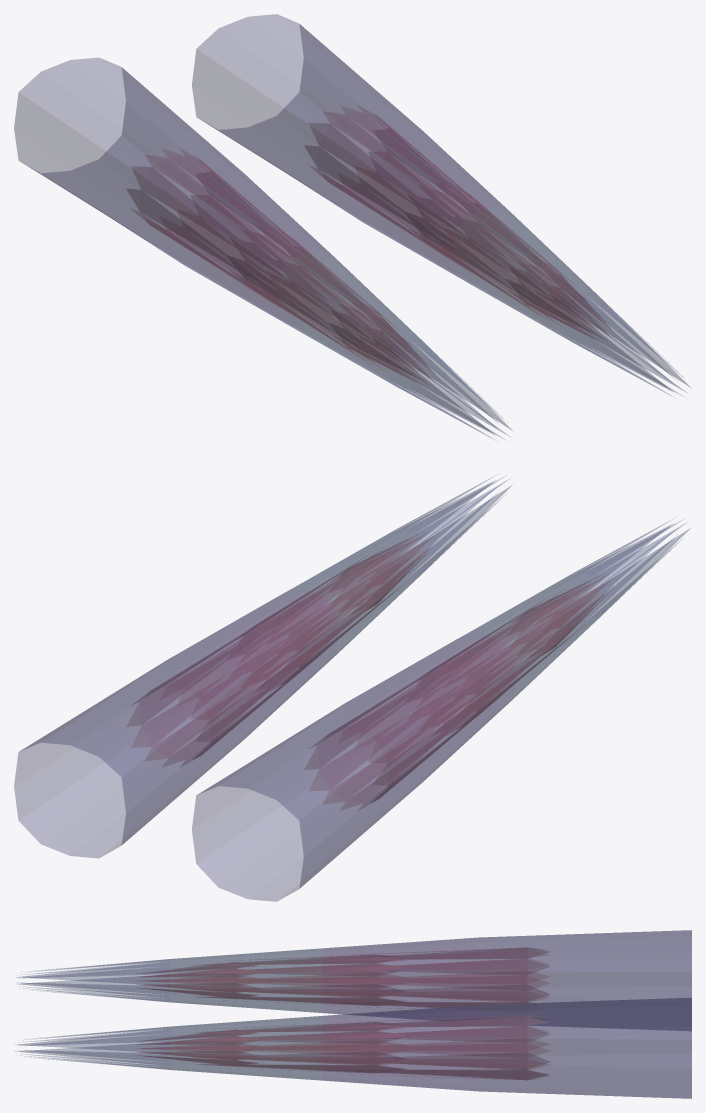
The model's file is Bunner_F3X2NG.obj.
3 views of the same model, one above another, from view 1: azimuth 30°, elevation 25°; view 2: azimuth 150°, elevation 25°; view 3: azimuth 270°, elevation 25° (orthographic). The views are drawn at different scales.
Visible parts, largest first — view 1: ShapeIndexedFaceSet.312_ShapeIndexedFaceSet.313, ShapeIndexedFaceSet.301_ShapeIndexedFaceSet.302, ShapeIndexedFaceSet.313_ShapeIndexedFaceSet.314, ShapeIndexedFaceSet.302_ShapeIndexedFaceSet.303, ShapeIndexedFaceSet.314_ShapeIndexedFaceSet.315, ShapeIndexedFaceSet.303_ShapeIndexedFaceSet.304, ShapeIndexedFaceSet.307_ShapeIndexedFaceSet.308, ShapeIndexedFaceSet.296_ShapeIndexedFaceSet.297, ShapeIndexedFaceSet.298_ShapeIndexedFaceSet.299, ShapeIndexedFaceSet.309_ShapeIndexedFaceSet.310, ShapeIndexedFaceSet.304_ShapeIndexedFaceSet.305, ShapeIndexedFaceSet.315_ShapeIndexedFaceSet (+6 smaller); view 2: ShapeIndexedFaceSet.301_ShapeIndexedFaceSet.302, ShapeIndexedFaceSet.312_ShapeIndexedFaceSet.313, ShapeIndexedFaceSet.302_ShapeIndexedFaceSet.303, ShapeIndexedFaceSet.313_ShapeIndexedFaceSet.314, ShapeIndexedFaceSet.296_ShapeIndexedFaceSet.297, ShapeIndexedFaceSet.307_ShapeIndexedFaceSet.308, ShapeIndexedFaceSet.303_ShapeIndexedFaceSet.304, ShapeIndexedFaceSet.314_ShapeIndexedFaceSet.315, ShapeIndexedFaceSet.309_ShapeIndexedFaceSet.310, ShapeIndexedFaceSet.298_ShapeIndexedFaceSet.299, ShapeIndexedFaceSet.315_ShapeIndexedFaceSet, ShapeIndexedFaceSet.304_ShapeIndexedFaceSet.305 (+6 smaller); view 3: ShapeIndexedFaceSet.312_ShapeIndexedFaceSet.313, ShapeIndexedFaceSet.301_ShapeIndexedFaceSet.302, ShapeIndexedFaceSet.313_ShapeIndexedFaceSet.314, ShapeIndexedFaceSet.302_ShapeIndexedFaceSet.303, ShapeIndexedFaceSet.314_ShapeIndexedFaceSet.315, ShapeIndexedFaceSet.303_ShapeIndexedFaceSet.304, ShapeIndexedFaceSet.307_ShapeIndexedFaceSet.308, ShapeIndexedFaceSet.296_ShapeIndexedFaceSet.297, ShapeIndexedFaceSet.298_ShapeIndexedFaceSet.299, ShapeIndexedFaceSet.309_ShapeIndexedFaceSet.310, ShapeIndexedFaceSet.304_ShapeIndexedFaceSet.305, ShapeIndexedFaceSet.315_ShapeIndexedFaceSet (+8 smaller).
Boxes of the visible parts, x1,y1,x2,y2 form: ShapeIndexedFaceSet.312_ShapeIndexedFaceSet.313: (192, 14, 424, 221); ShapeIndexedFaceSet.301_ShapeIndexedFaceSet.302: (14, 57, 247, 264); ShapeIndexedFaceSet.313_ShapeIndexedFaceSet.314: (342, 121, 514, 282); ShapeIndexedFaceSet.302_ShapeIndexedFaceSet.303: (164, 165, 337, 326); ShapeIndexedFaceSet.314_ShapeIndexedFaceSet.315: (454, 208, 601, 342); ShapeIndexedFaceSet.303_ShapeIndexedFaceSet.304: (276, 251, 423, 385); ShapeIndexedFaceSet.307_ShapeIndexedFaceSet.308: (318, 113, 492, 268); ShapeIndexedFaceSet.296_ShapeIndexedFaceSet.297: (140, 156, 315, 312); ShapeIndexedFaceSet.298_ShapeIndexedFaceSet.299: (245, 236, 406, 367); ShapeIndexedFaceSet.309_ShapeIndexedFaceSet.310: (423, 192, 572, 324); ShapeIndexedFaceSet.304_ShapeIndexedFaceSet.305: (386, 335, 512, 439); ShapeIndexedFaceSet.315_ShapeIndexedFaceSet: (564, 292, 690, 396); ShapeIndexedFaceSet.301_ShapeIndexedFaceSet.302: (192, 694, 425, 901); ShapeIndexedFaceSet.312_ShapeIndexedFaceSet.313: (14, 650, 247, 858); ShapeIndexedFaceSet.302_ShapeIndexedFaceSet.303: (343, 633, 515, 793); ShapeIndexedFaceSet.313_ShapeIndexedFaceSet.314: (165, 589, 337, 750); ShapeIndexedFaceSet.296_ShapeIndexedFaceSet.297: (318, 645, 512, 802); ShapeIndexedFaceSet.307_ShapeIndexedFaceSet.308: (140, 601, 334, 759); ShapeIndexedFaceSet.303_ShapeIndexedFaceSet.304: (455, 573, 601, 707); ShapeIndexedFaceSet.314_ShapeIndexedFaceSet.315: (277, 530, 424, 664); ShapeIndexedFaceSet.309_ShapeIndexedFaceSet.310: (245, 549, 407, 679); ShapeIndexedFaceSet.298_ShapeIndexedFaceSet.299: (423, 591, 585, 723); ShapeIndexedFaceSet.315_ShapeIndexedFaceSet: (386, 477, 511, 580); ShapeIndexedFaceSet.304_ShapeIndexedFaceSet.305: (564, 519, 690, 623); ShapeIndexedFaceSet.312_ShapeIndexedFaceSet.313: (479, 997, 691, 1098); ShapeIndexedFaceSet.301_ShapeIndexedFaceSet.302: (479, 930, 691, 1030); ShapeIndexedFaceSet.313_ShapeIndexedFaceSet.314: (322, 1005, 479, 1091); ShapeIndexedFaceSet.302_ShapeIndexedFaceSet.303: (322, 937, 479, 1020); ShapeIndexedFaceSet.314_ShapeIndexedFaceSet.315: (170, 1016, 322, 1080); ShapeIndexedFaceSet.303_ShapeIndexedFaceSet.304: (170, 948, 322, 1012); ShapeIndexedFaceSet.307_ShapeIndexedFaceSet.308: (325, 1015, 526, 1079); ShapeIndexedFaceSet.296_ShapeIndexedFaceSet.297: (321, 947, 526, 1007); ShapeIndexedFaceSet.298_ShapeIndexedFaceSet.299: (195, 955, 375, 1005); ShapeIndexedFaceSet.309_ShapeIndexedFaceSet.310: (195, 1022, 375, 1072); ShapeIndexedFaceSet.304_ShapeIndexedFaceSet.305: (16, 959, 169, 1002); ShapeIndexedFaceSet.315_ShapeIndexedFaceSet: (17, 1026, 169, 1069).
Bounding box in the file's own units: 18.52 × 6.76 × 48.19.
